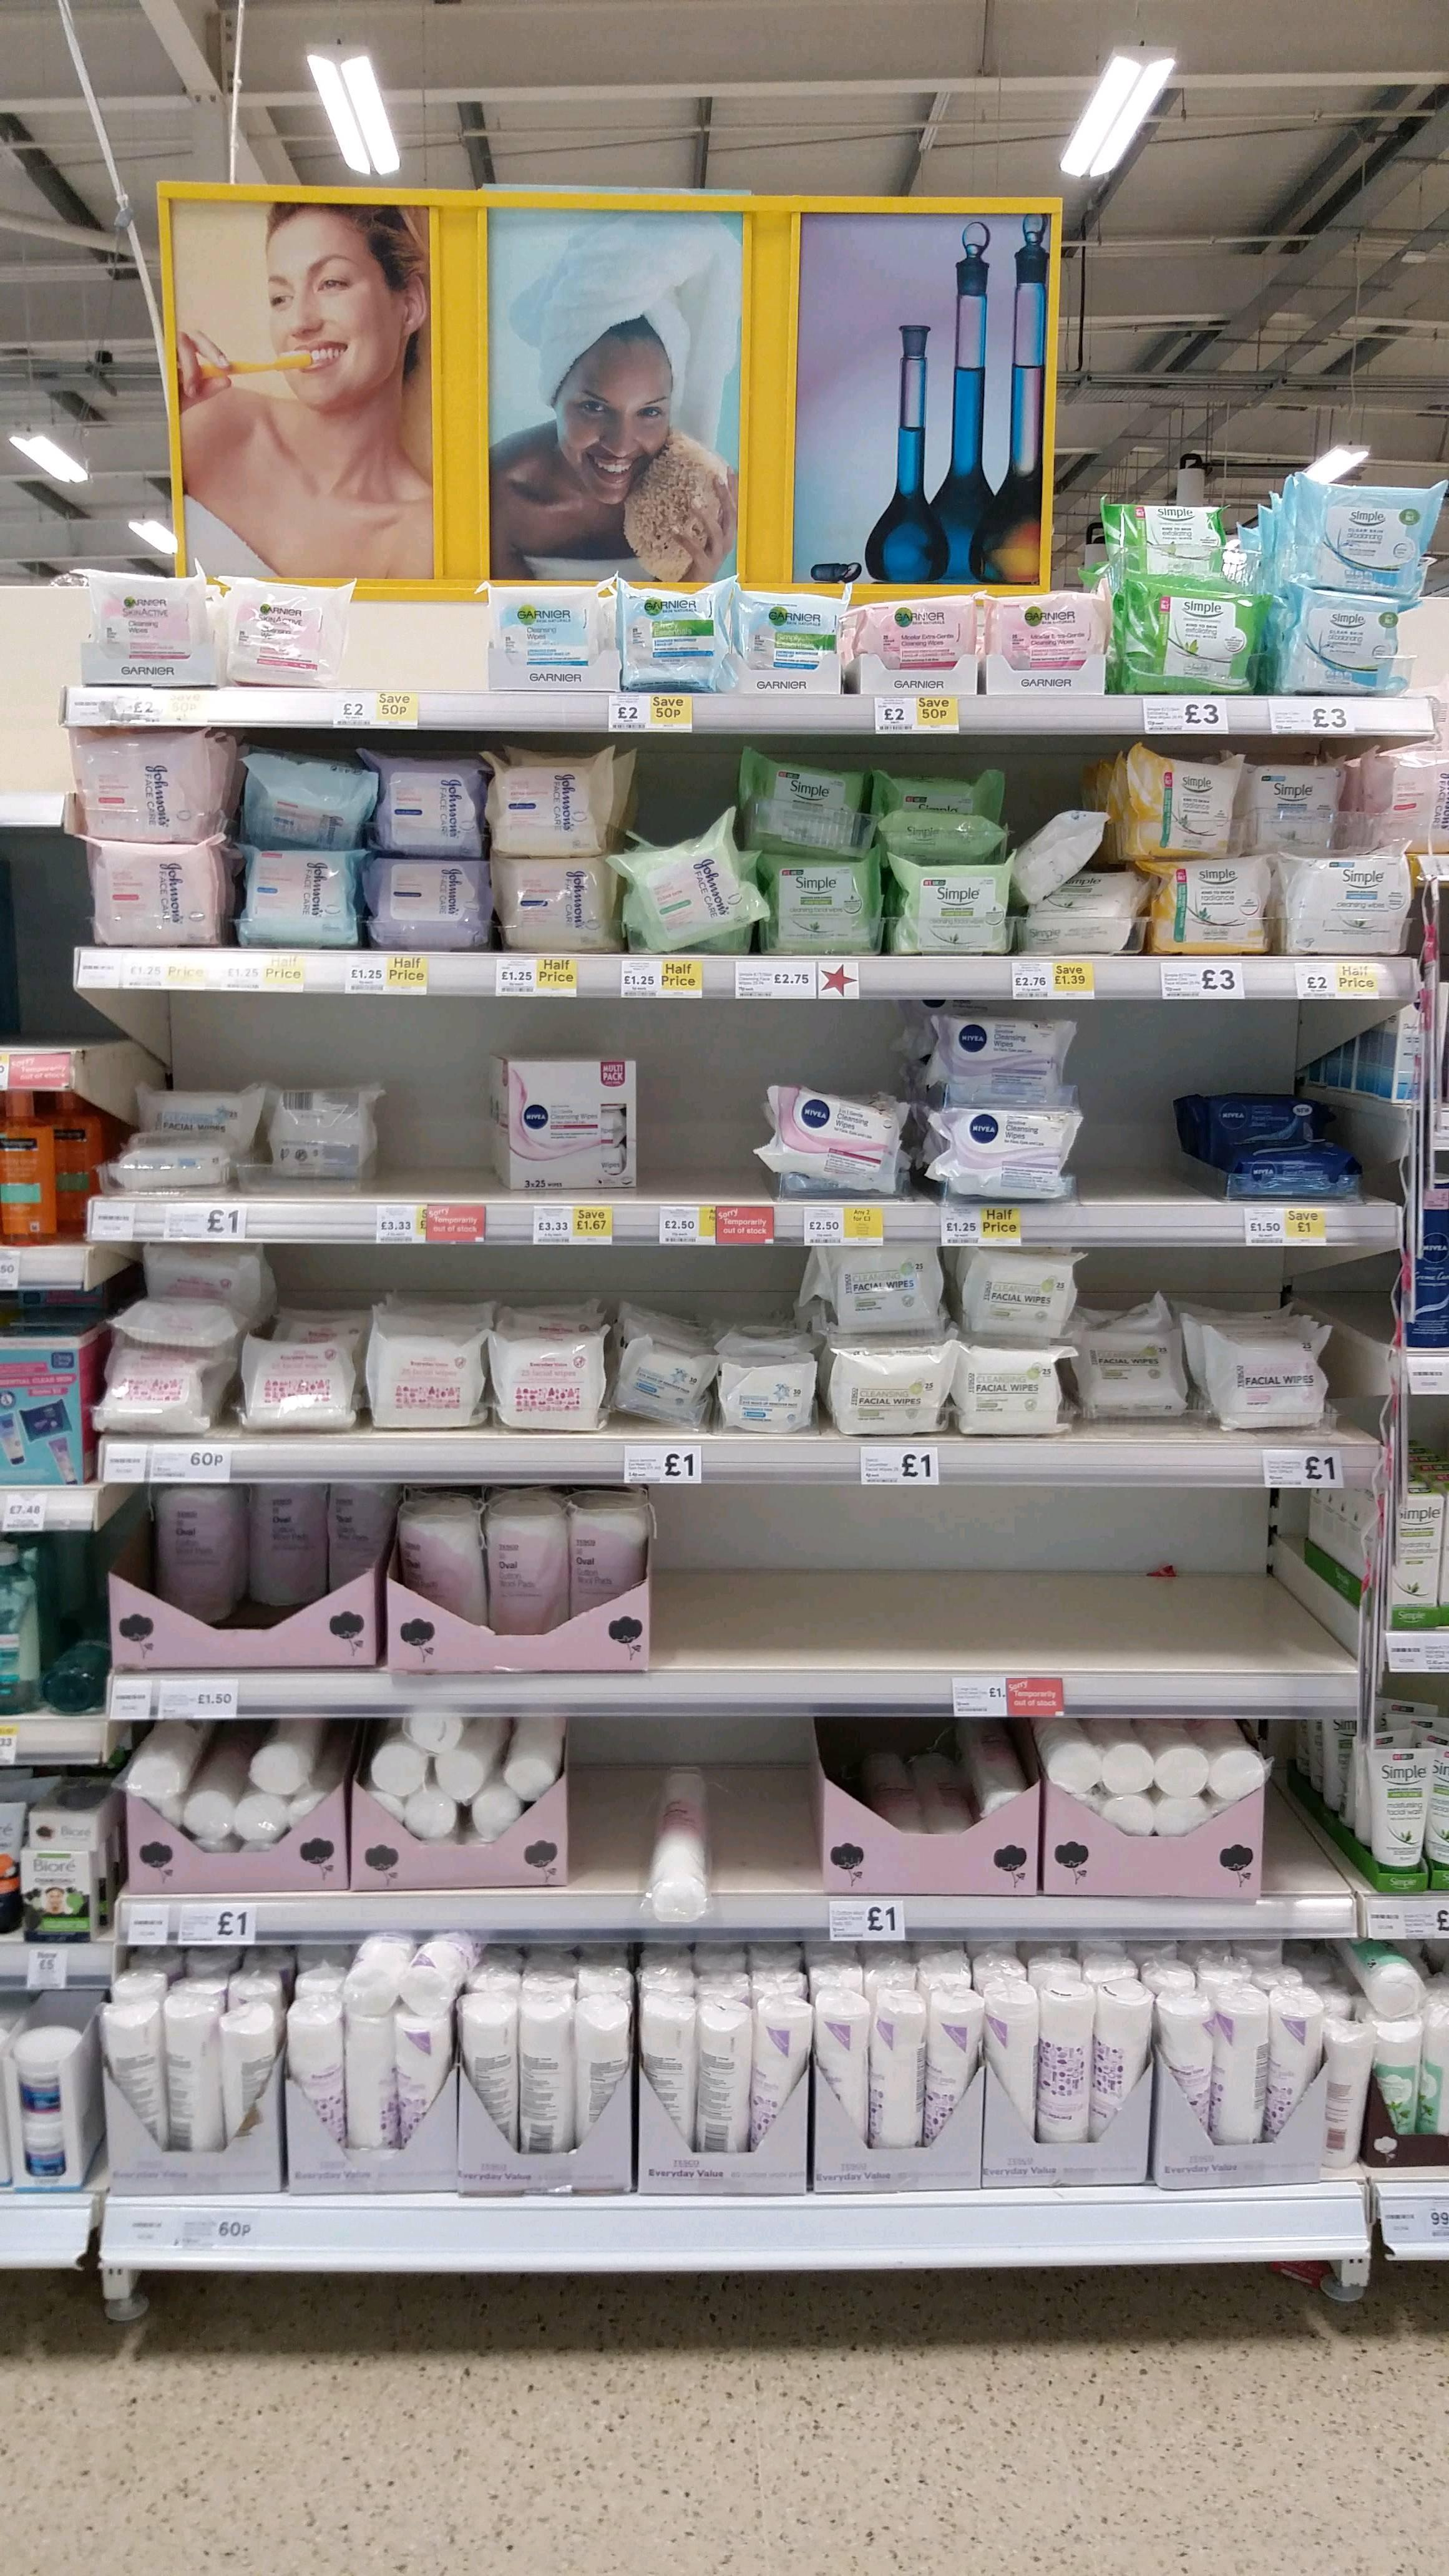empty: (658, 1516, 892, 1667), (893, 1514, 1102, 1672), (1109, 1511, 1320, 1667), (699, 1737, 833, 1898), (338, 563, 481, 690), (387, 1049, 497, 1191), (651, 1051, 761, 1192), (1092, 1047, 1201, 1189), (570, 1732, 658, 1893)
